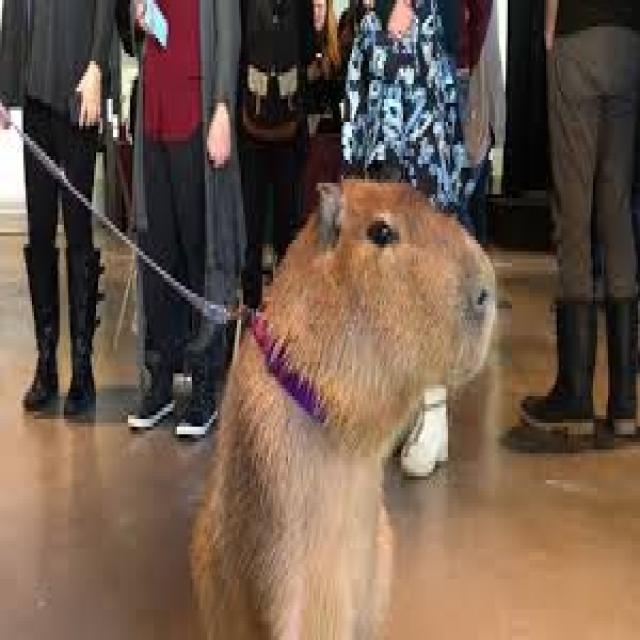capy: (186, 171, 495, 640)
